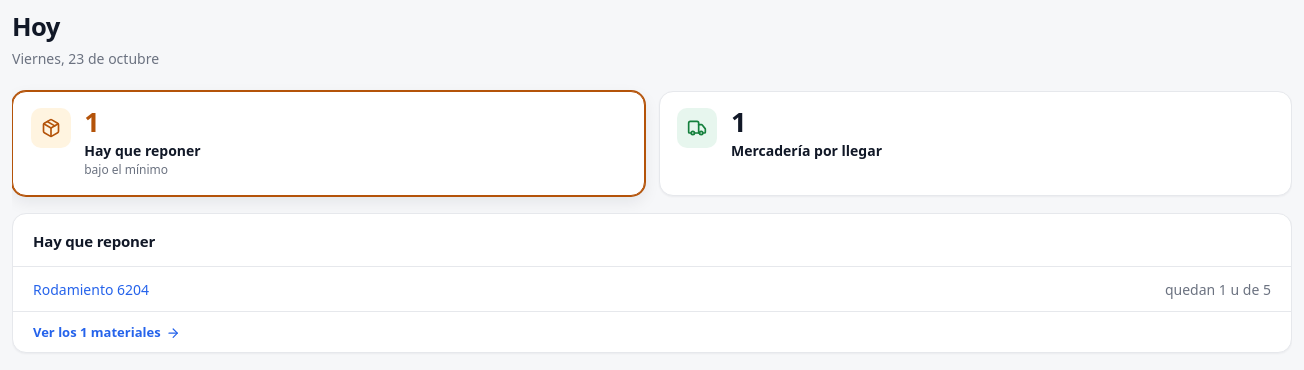
Test case: InicioPage — tarjetas › arranca con la primera abierta; tocar otra cambia la lista, y tocarla de nuevo la cierra
expect the link "Rodamiento 6204" is shown: met, box x1=33 y1=278 x2=149 y2=300
expect the text "OC-0007" is not shown: met
Click the button "1 Mercadería por llegar".
click(697, 128)  # box x1=659 y1=91 x2=1292 y2=196
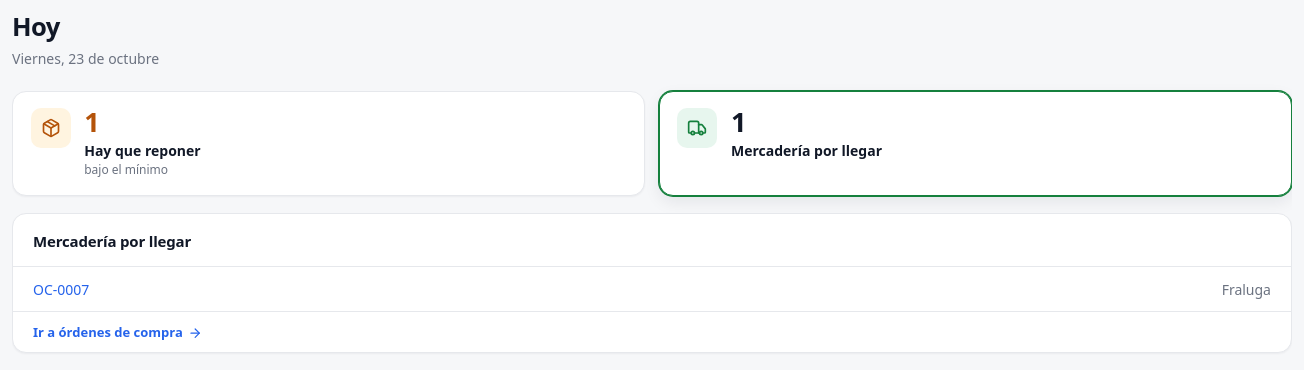
expect the link "OC-0007" is shown: met, box x1=33 y1=278 x2=89 y2=300
expect the link "Rodamiento 6204" is gone: met
expect the button "1 Mercadería por llegar" is expanded: met
Click the button "1 Mercadería por llegar".
click(697, 128)  # box x1=659 y1=91 x2=1292 y2=196
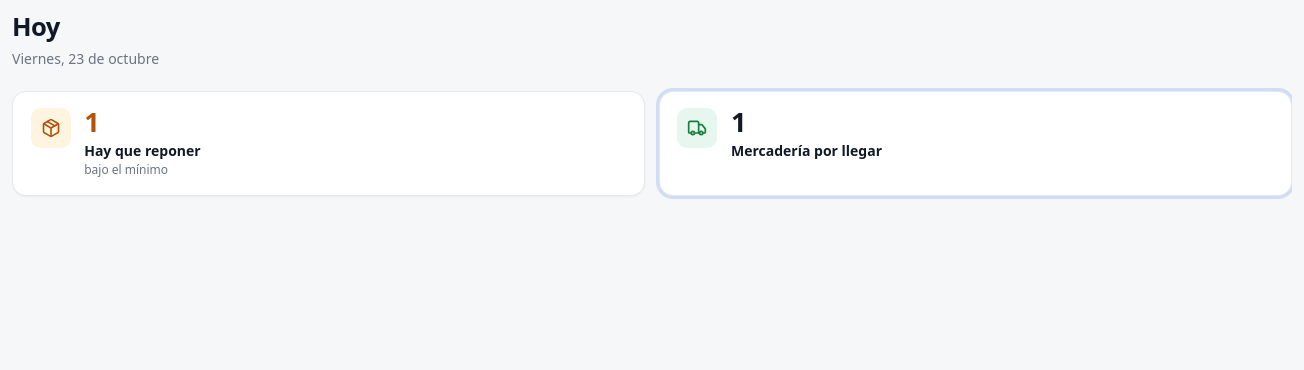
expect the link "OC-0007" is gone: met
